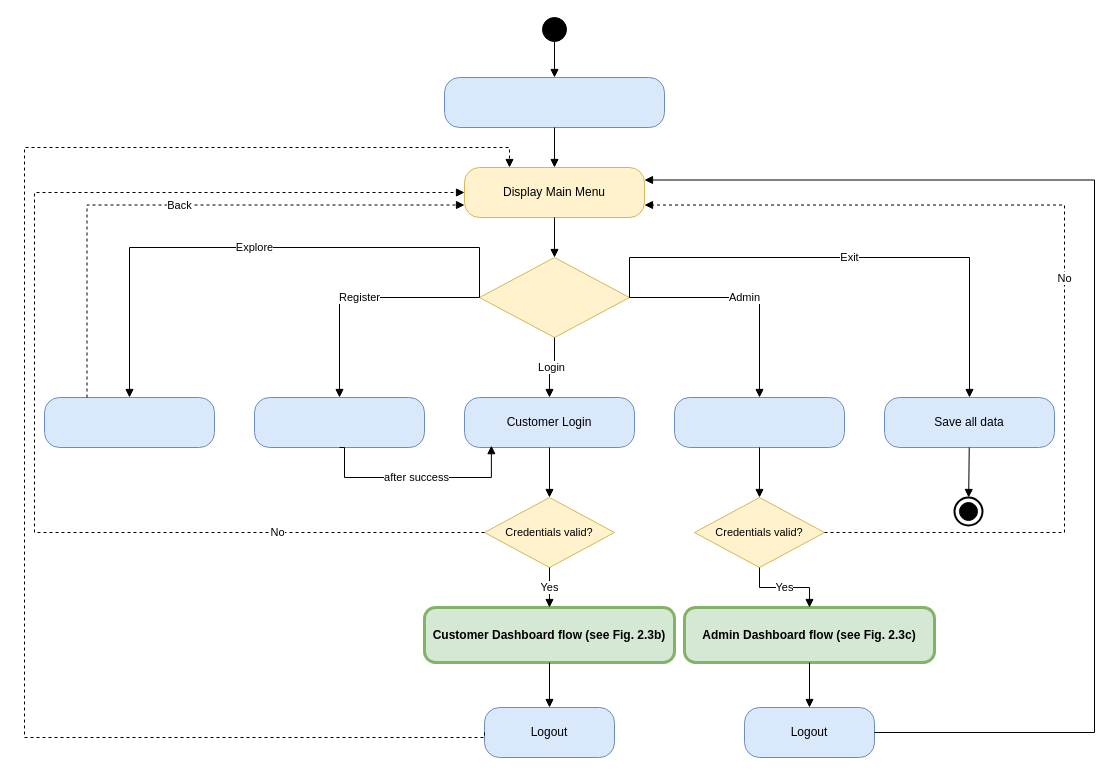
Image size: 1120x775. Some labels were removed from this diagram. The shapes that lost their labels are listed below. From the top down, each one's centre as x and y in pixels, then its label:
the point at 554,102: Load saved data (menu, customers, orders)
the point at 554,297: User selects
the point at 129,422: Browse Public Menu (no login required)
the point at 339,422: Register Customer Account
the point at 759,422: Admin Login
